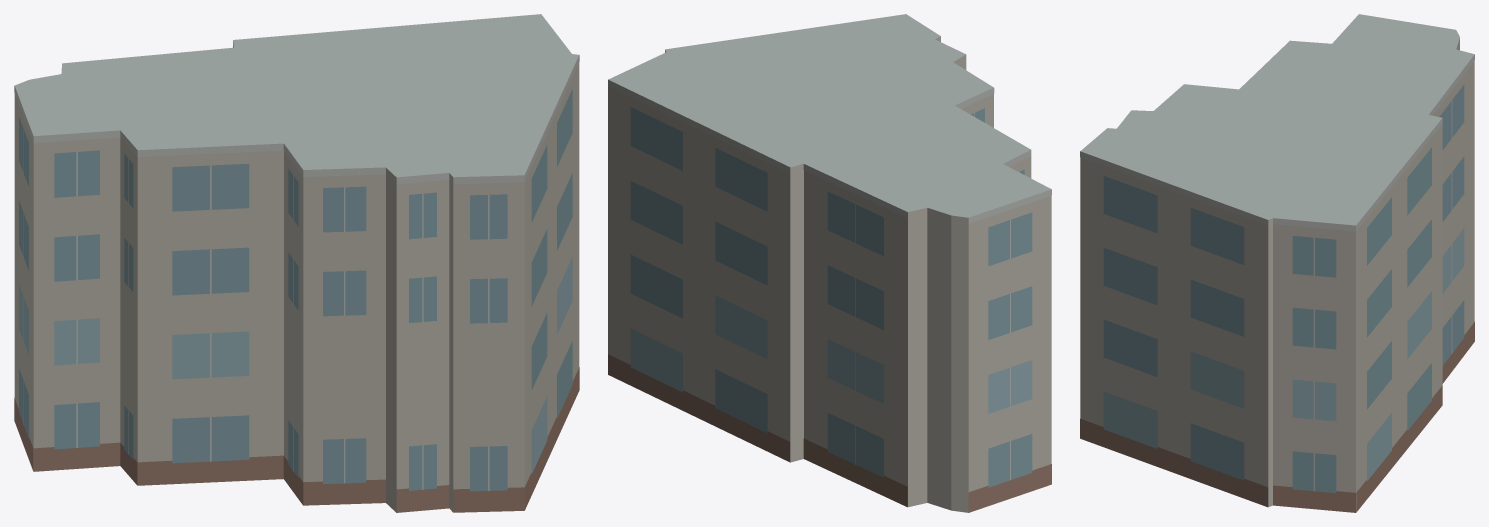
Rendered from survey-upis-32991358.glb.
3 renders of one model, left to right at view 1: azimuth 30°, elevation 25°; view 2: azimuth 150°, elevation 25°; view 3: azimuth 270°, elevation 25°, orthographic. The views are drawn at different scales.
Parts seen in each view (by area): view 1: survey-upis-32991358.tmp; view 2: survey-upis-32991358.tmp; view 3: survey-upis-32991358.tmp.
Part boxes in pixels (<box>): survey-upis-32991358.tmp: <box>14,14,579,512</box>; survey-upis-32991358.tmp: <box>608,14,1051,512</box>; survey-upis-32991358.tmp: <box>1080,14,1474,512</box>.
Size of the model in its own units: 18.48 by 11.7 by 14.57.
